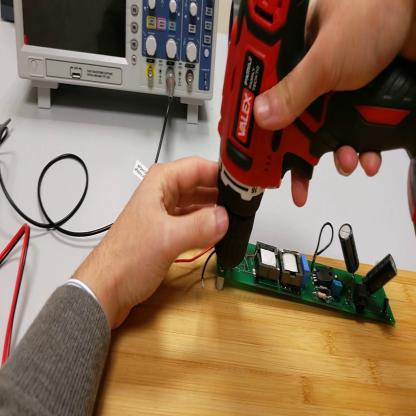electric screwdriver: (214, 2, 416, 267)
hand: (252, 4, 412, 195), (104, 158, 229, 315)
high voltage board: (174, 223, 403, 327)
oscilloscope: (15, 3, 219, 124)
oscilloscope probe tip: (1, 117, 12, 143)
socket: (2, 3, 17, 21)
working area: (94, 231, 416, 416)
